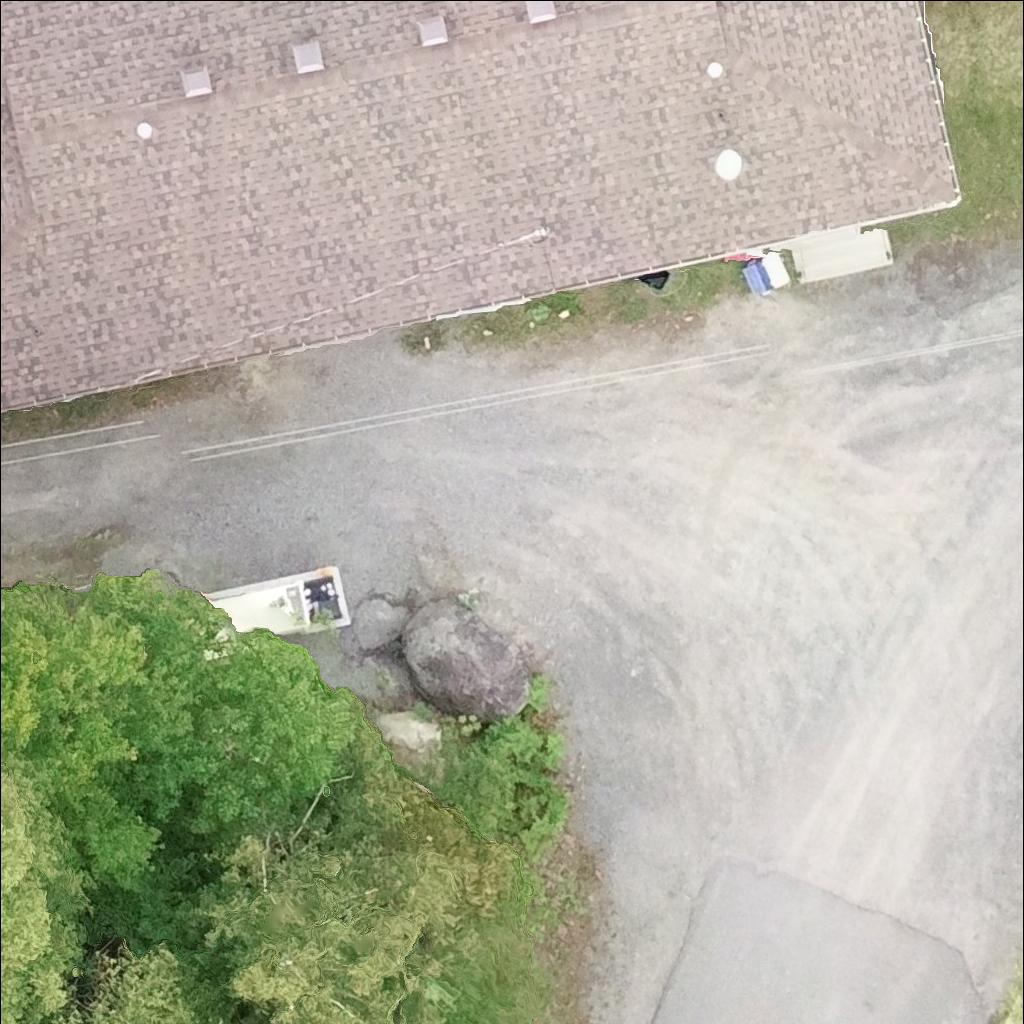crown: (193, 834, 504, 1023), (0, 579, 226, 812), (196, 628, 355, 786), (0, 763, 86, 1023), (53, 943, 223, 1023)
